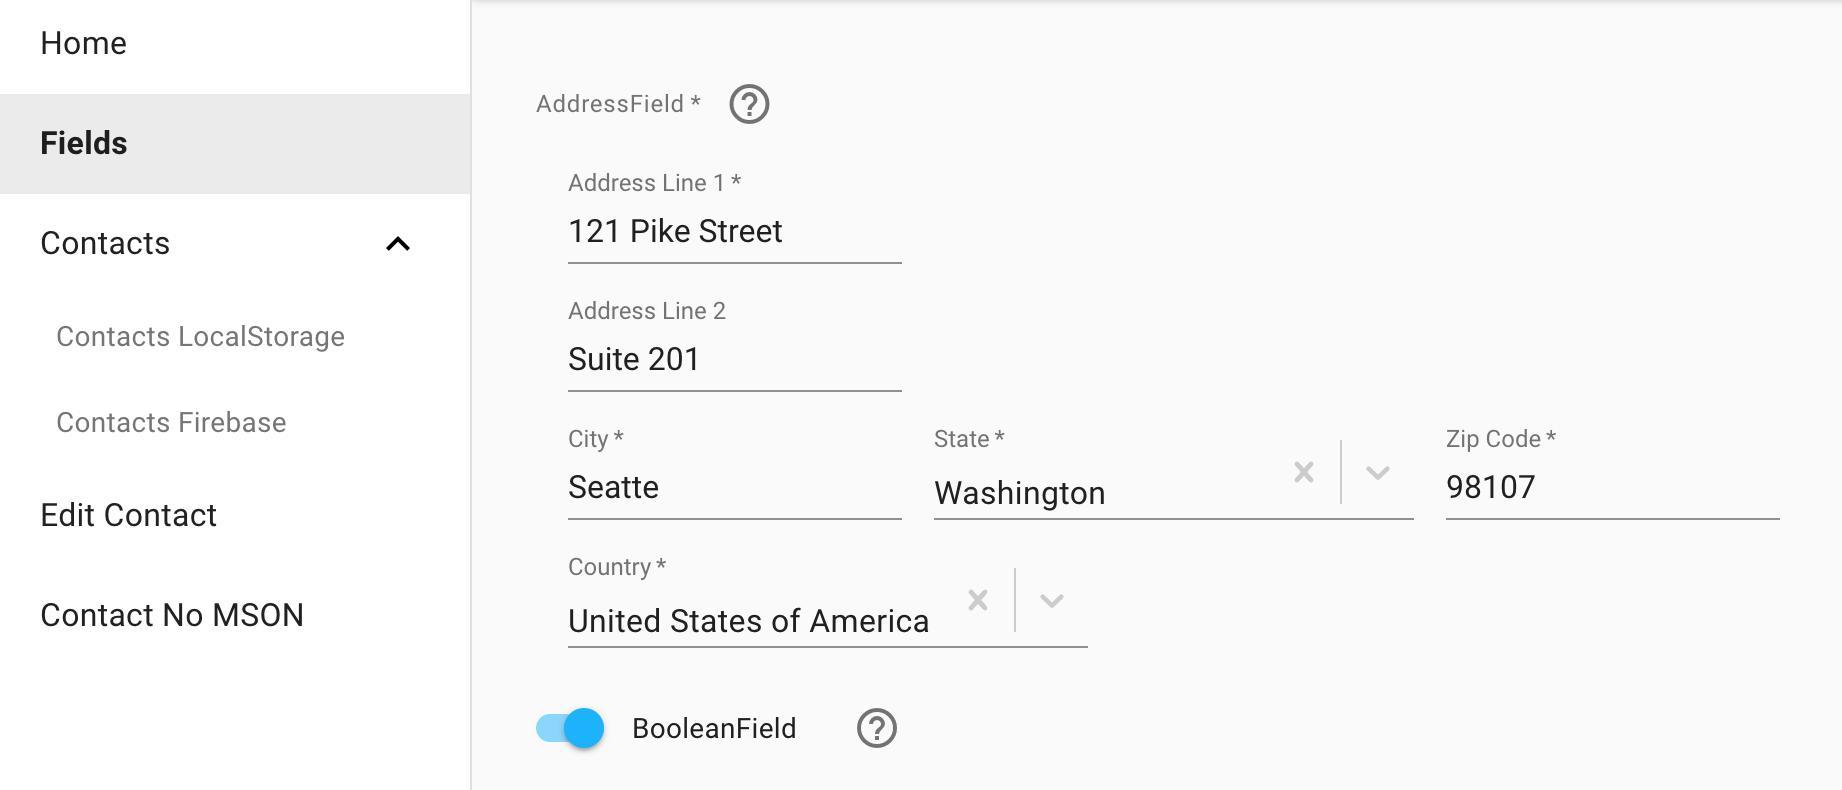icon: (835, 698, 917, 756), (725, 85, 784, 129)
label: (524, 82, 707, 128), (631, 712, 811, 750), (550, 169, 755, 197), (559, 295, 737, 324), (1439, 426, 1569, 457), (925, 423, 1030, 453), (570, 549, 668, 576), (551, 431, 641, 457)
switch: (526, 702, 610, 750)
